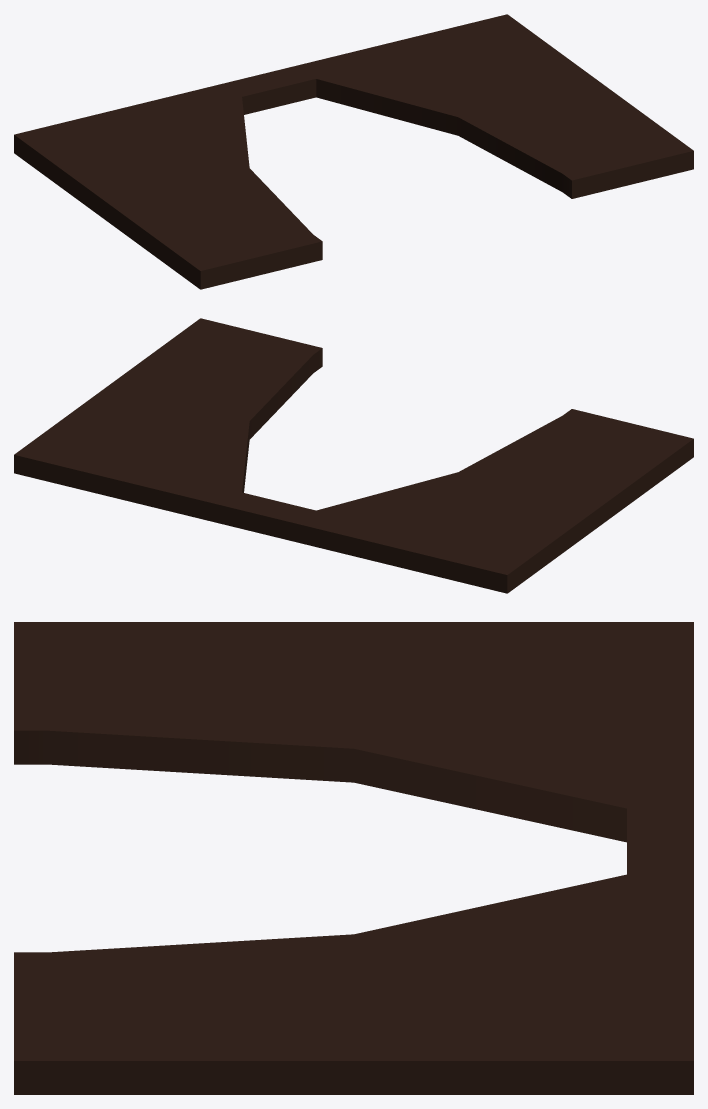
Rendered from sueloRoloEntero.FBX.
3 renders of one model, top to bottom at view 1: azimuth 30°, elevation 25°; view 2: azimuth 150°, elevation 25°; view 3: azimuth 270°, elevation 25°, orthographic. The views are drawn at different scales.
Visible parts, largest first — view 1: sueloRotoEntero; view 2: sueloRotoEntero; view 3: sueloRotoEntero.
Part boxes in pixels (x1,y1,x2,y2): sueloRotoEntero: (14, 14, 693, 289); sueloRotoEntero: (14, 318, 693, 593); sueloRotoEntero: (14, 622, 693, 1094).
Bounding box in the file's own units: 15.48 × 0.5575 × 10.14.
